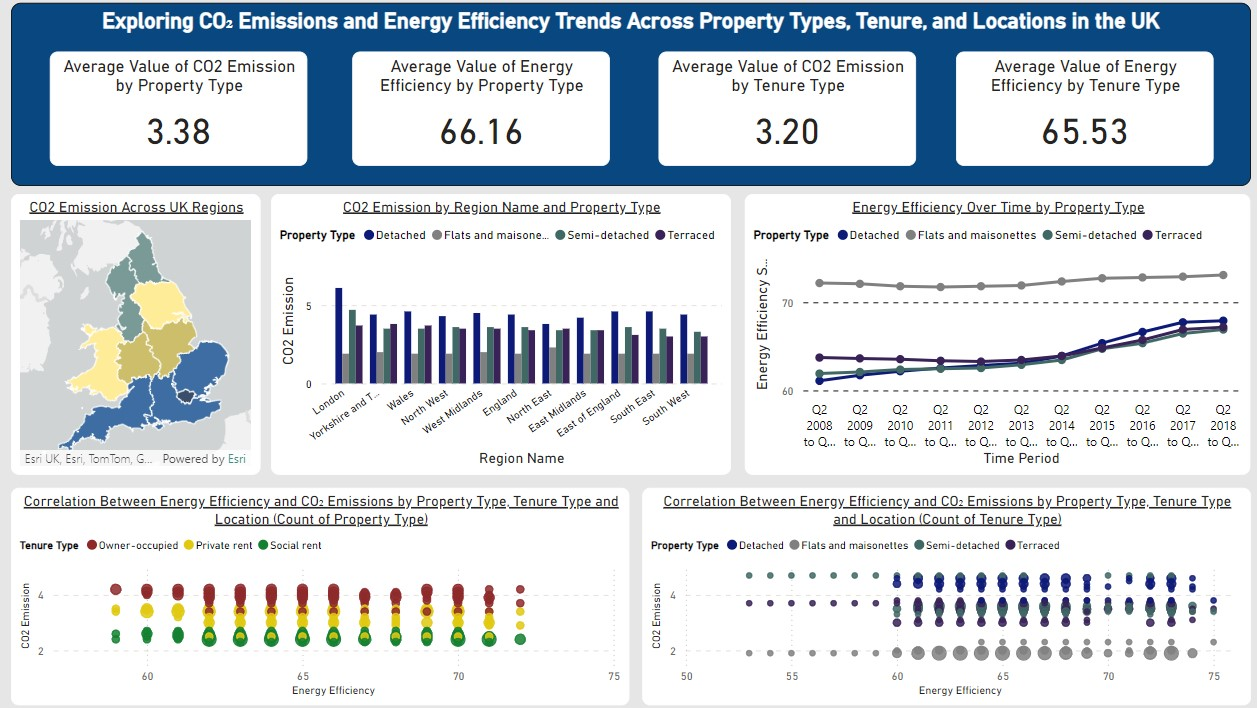

The page's visual inventory and layout, read from the dashboard file:
{"tool":"powerbi","page":{"name":"Page 1","canvas":[1280,720],"ordinal":0},"visuals":[{"type":"lineChart","title":"Energy Efficiency Over Time by Property Type","fields":{"Category":["Energy_effi_byProperty.Time Period"],"Y":["Avg(Energy_effi_byProperty.Energy Efficiency)"],"Series":["Energy_effi_byProperty.Property Type"]},"box":[754.1,200,505.9,281.2],"z":3000},{"type":"scatterChart","title":"Correlation Between Energy Efficiency and CO₂ Emissions by Property Type, Tenure Type and Location (Count of Property Type)","fields":{"Series":["CO2_Emission_byTenure.Tenure Type"],"Size":["CountNonNull(Energy_effi_byProperty.Property Type)"],"X":["Energy_effi_byTenure.Energy Efficiency"],"Y":["CO2_Emission_byTenure.CO2 Emission"]},"box":[20.3,493.7,618.8,217.5],"z":4000},{"type":"scatterChart","title":"Correlation Between Energy Efficiency and CO₂ Emissions by Property Type, Tenure Type and Location (Count of Tenure Type)","fields":{"X":["Energy_effi_byProperty.Energy Efficiency"],"Y":["CO2_Emission_byProperty.CO2 Emission"],"Series":["CO2_Emission_byProperty.Property Type"],"Size":["CountNonNull(CO2_Emission_byTenure.Tenure Type)"]},"box":[651.5,493.7,608.6,217.5],"z":5000},{"type":"clusteredColumnChart","title":"CO2 Emission by Region Name and Property Type","fields":{"Category":["CO2_Emission_byProperty.Region Name"],"Series":["CO2_Emission_byProperty.Property Type"],"Y":["Median(CO2_Emission_byProperty.CO2 Emission)"]},"box":[280,200,460,281.2],"z":6000},{"type":"textbox","box":[20,8.2,1240,183.5],"z":7000},{"type":"esriVisual","title":"CO2 Emission Across UK Regions","fields":{"Color":["CO2_Emission_byProperty.All dwellings"],"Location":["CO2_Emission_byProperty.Region Name"]},"box":[20,200,249.4,281.2],"z":9000},{"type":"card","title":"Average Value of CO2 Emission by Property Type","fields":{"Values":["CO2_Emission_byProperty.AverageValue"]},"box":[58.8,57.6,257.6,114.1],"z":9501},{"type":"card","title":"Average Value of CO2 Emission by Tenure Type","fields":{"Values":["CO2_Emission_byTenure.AverageValueT"]},"box":[667.1,57.6,257.6,114.1],"z":10002},{"type":"card","title":"Average Value of Energy Efficiency by Property Type","fields":{"Values":["Energy_effi_byProperty.AverageValueEP"]},"box":[361.2,57.6,257.6,114.1],"z":10503},{"type":"card","title":"Average Value of Energy Efficiency by Tenure Type","fields":{"Values":["Energy_effi_byTenure.AverageValueET"]},"box":[964.7,57.6,257.6,114.1],"z":11004}]}

Visuals, with their boxes in screenshot pixels (x1, y1, x2, y2), scaled from the page's 1280x720 canvas onto the 1257x708 screenshot:
"Energy Efficiency Over Time by Property Type" lineChart: [x1=741, y1=197, x2=1237, y2=473]
"Correlation Between Energy Efficiency and CO₂ Emissions by Property Type, Tenure Type and Location (Count of Property Type)" scatterChart: [x1=20, y1=485, x2=628, y2=699]
"Correlation Between Energy Efficiency and CO₂ Emissions by Property Type, Tenure Type and Location (Count of Tenure Type)" scatterChart: [x1=640, y1=485, x2=1237, y2=699]
"CO2 Emission by Region Name and Property Type" clusteredColumnChart: [x1=275, y1=197, x2=727, y2=473]
textbox: [x1=20, y1=8, x2=1237, y2=189]
"CO2 Emission Across UK Regions" esriVisual: [x1=20, y1=197, x2=265, y2=473]
"Average Value of CO2 Emission by Property Type" card: [x1=58, y1=57, x2=311, y2=169]
"Average Value of CO2 Emission by Tenure Type" card: [x1=655, y1=57, x2=908, y2=169]
"Average Value of Energy Efficiency by Property Type" card: [x1=355, y1=57, x2=608, y2=169]
"Average Value of Energy Efficiency by Tenure Type" card: [x1=947, y1=57, x2=1200, y2=169]
